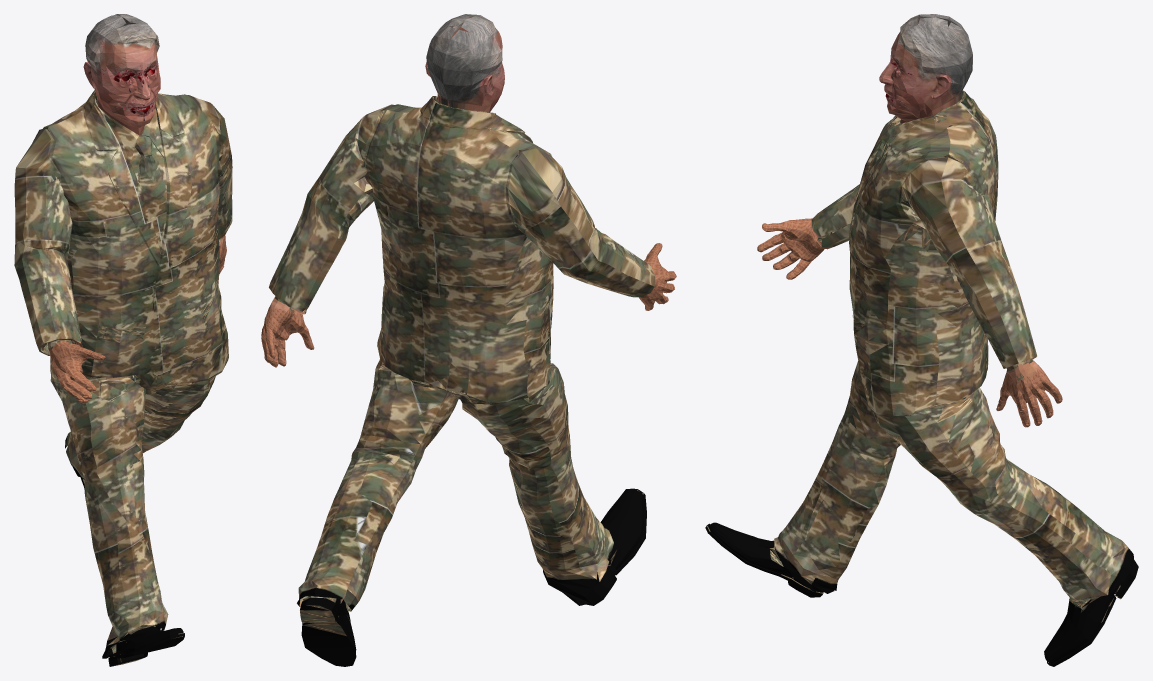
Rendered from zombie_000002.obj.
3 renders of one model, left to right at view 1: azimuth 30°, elevation 25°; view 2: azimuth 150°, elevation 25°; view 3: azimuth 270°, elevation 25°, orthographic. The views are drawn at different scales.
Visible parts, largest first — view 1: Suit_coat_orig_9___De, objGeo_Hea_orig_9___D; view 2: Suit_coat_orig_9___De, objGeo_Hea_orig_9___D; view 3: Suit_coat_orig_9___De, objGeo_Hea_orig_9___D.
Part boxes in pixels (x1=…): Suit_coat_orig_9___De: x1=14, y1=90, x2=232, y2=666; objGeo_Hea_orig_9___D: x1=83, y1=14, x2=160, y2=135; Suit_coat_orig_9___De: x1=261, y1=96, x2=676, y2=666; objGeo_Hea_orig_9___D: x1=425, y1=14, x2=504, y2=112; Suit_coat_orig_9___De: x1=705, y1=90, x2=1138, y2=666; objGeo_Hea_orig_9___D: x1=879, y1=14, x2=972, y2=123.
Bounding box in the file's own units: 0.8942 × 1.82 × 1.16.
